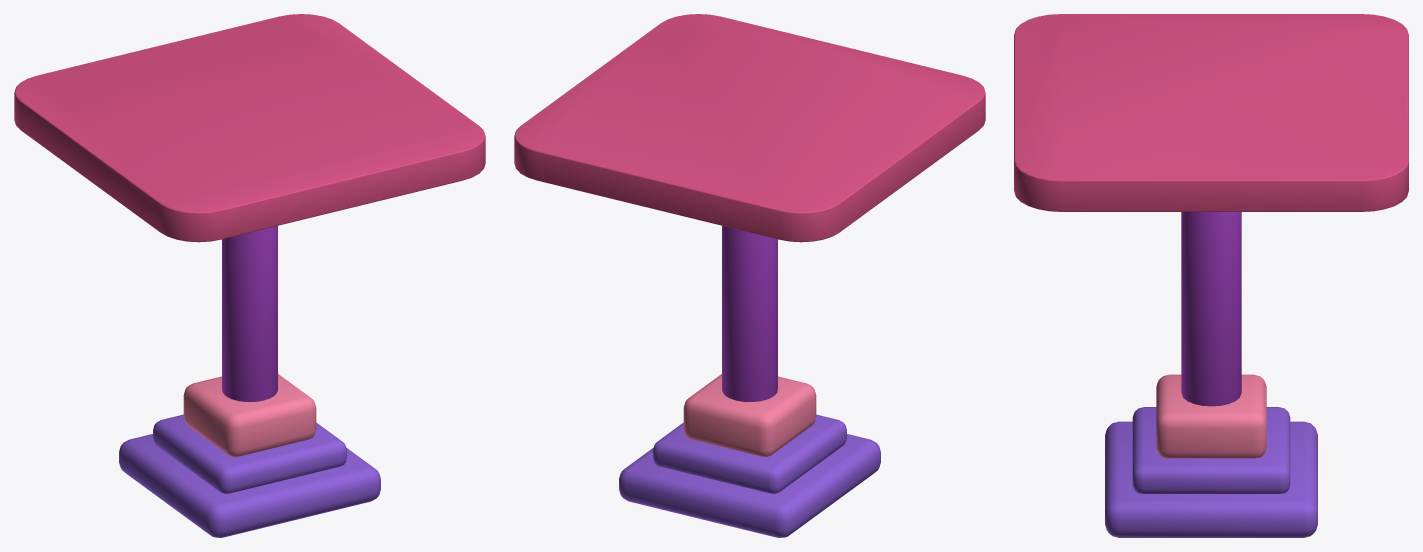
The model's file is mesa_lateral_pedestal_rosa.glb.
3 renders of one model, left to right at view 1: azimuth 30°, elevation 25°; view 2: azimuth 150°, elevation 25°; view 3: azimuth 270°, elevation 25°, orthographic. The views are drawn at different scales.
Visible parts, largest first — view 1: mesa_lateral_pedestal_rosa; view 2: mesa_lateral_pedestal_rosa; view 3: mesa_lateral_pedestal_rosa.
Boxes of the visible parts, x1,y1,x2,y2 form: mesa_lateral_pedestal_rosa: (14,14,485,537); mesa_lateral_pedestal_rosa: (514,14,985,537); mesa_lateral_pedestal_rosa: (1014,14,1408,537).
Size of the model in its own units: 0.5 by 0.56 by 0.5.
Materials: 1 (1 with a texture image).
